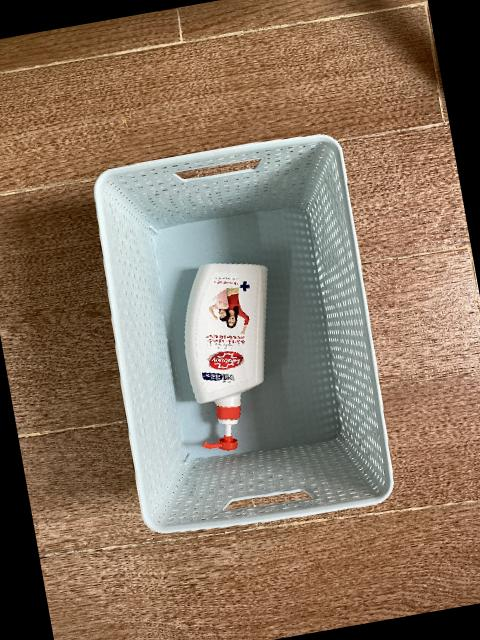cart: (92, 131, 392, 531)
life-buoy: (183, 261, 266, 449)
